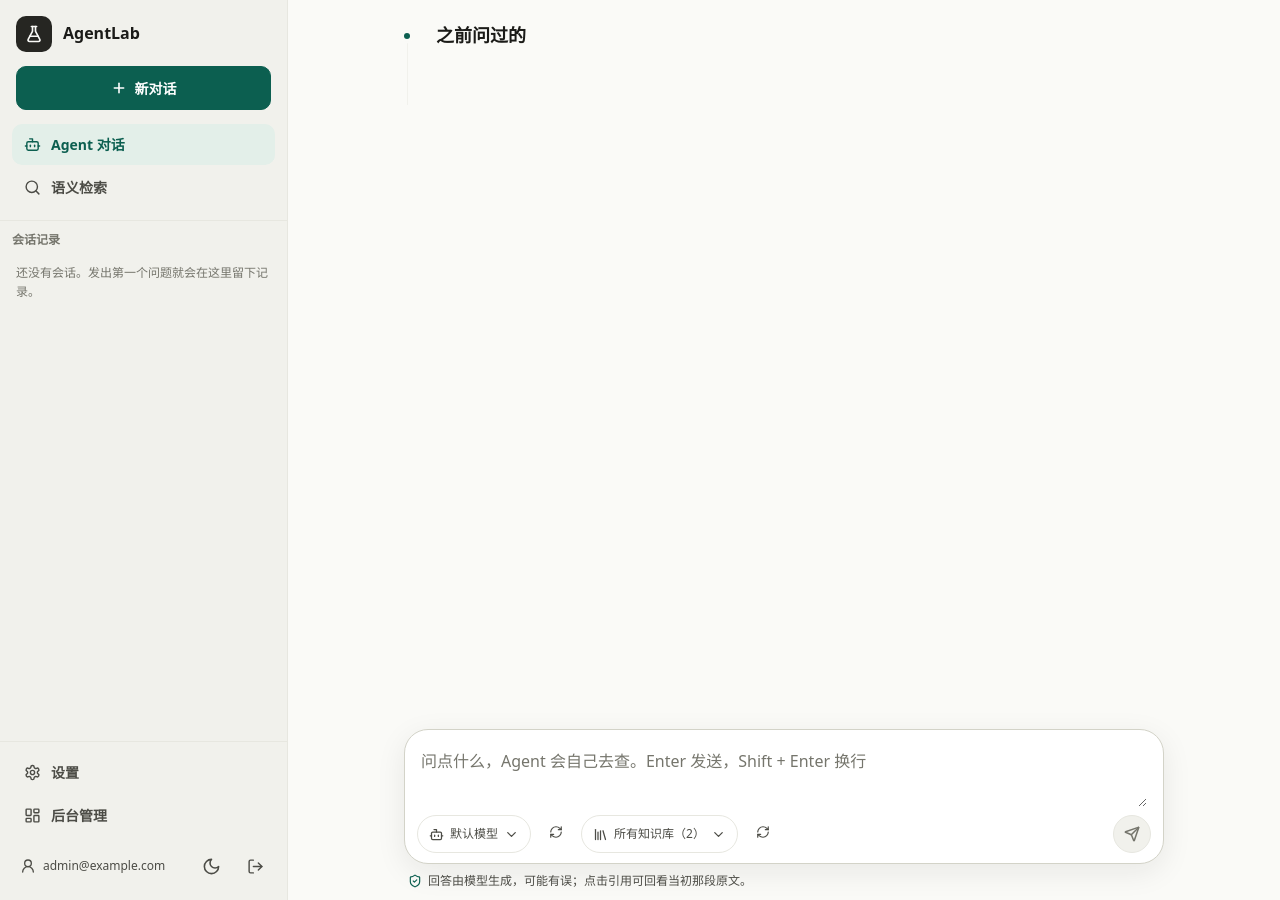
Test case: AgentChatPage › 会话记录 › 点「新对话」回到 /agent 并清空界面
This screenshot has width=1280, height=900.
# 「新对话」是外壳侧栏的主操作按钮，整页唯一。
Click the button "新对话". click: [144, 88]
box: [16, 66, 271, 110]
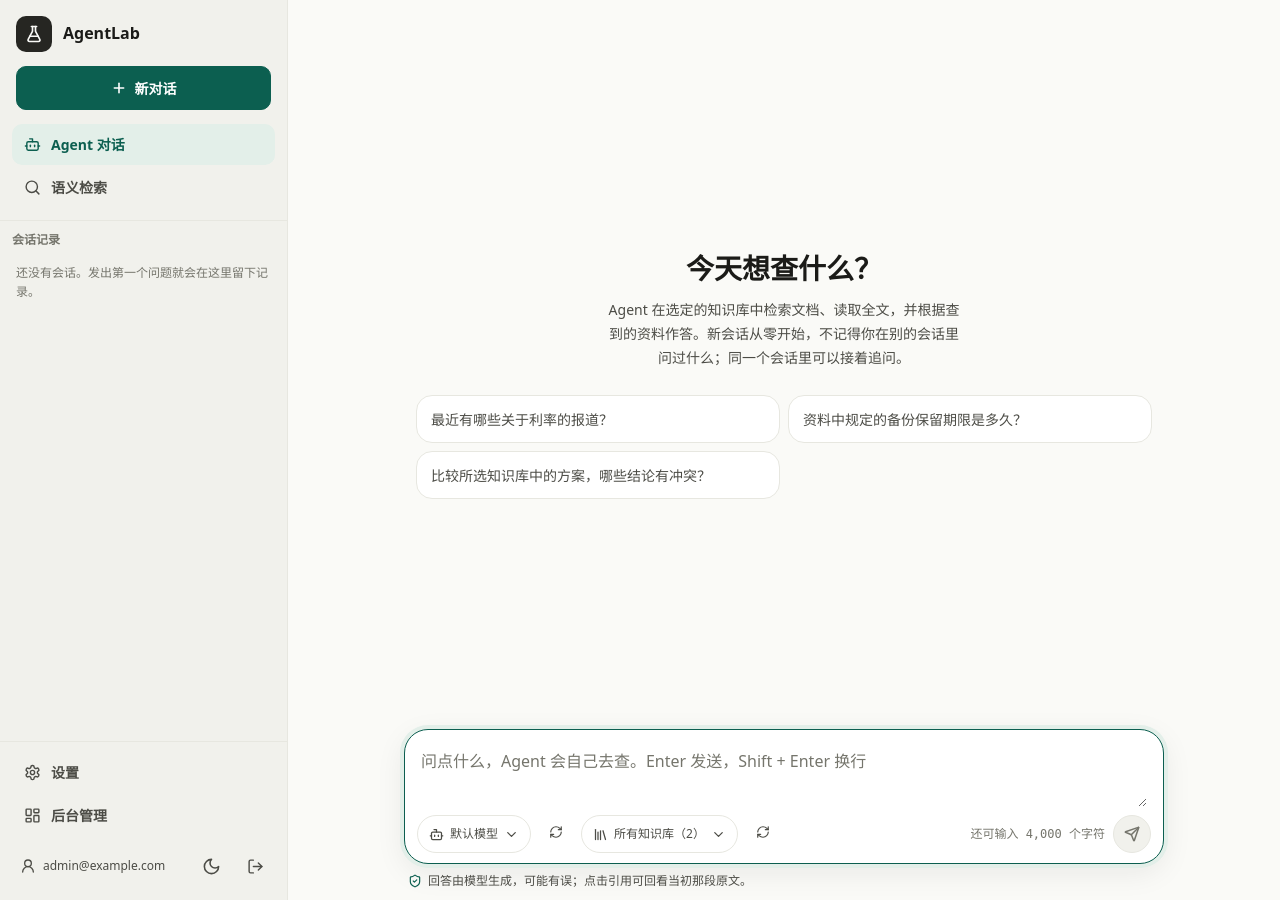
Expected: the text "之前问过的" is gone
